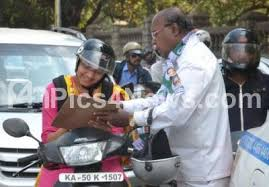helmet: (74, 39, 115, 90), (221, 27, 262, 73)
